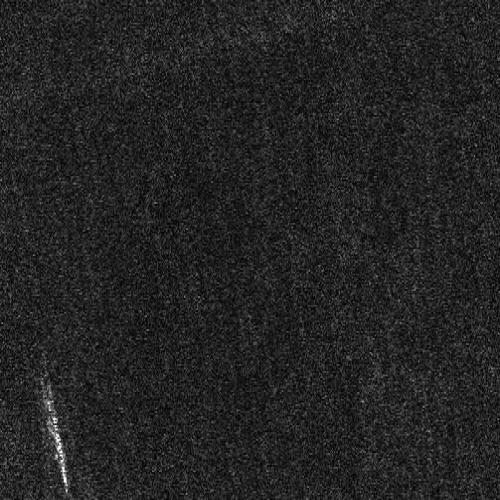ship: (48, 398, 68, 495)
